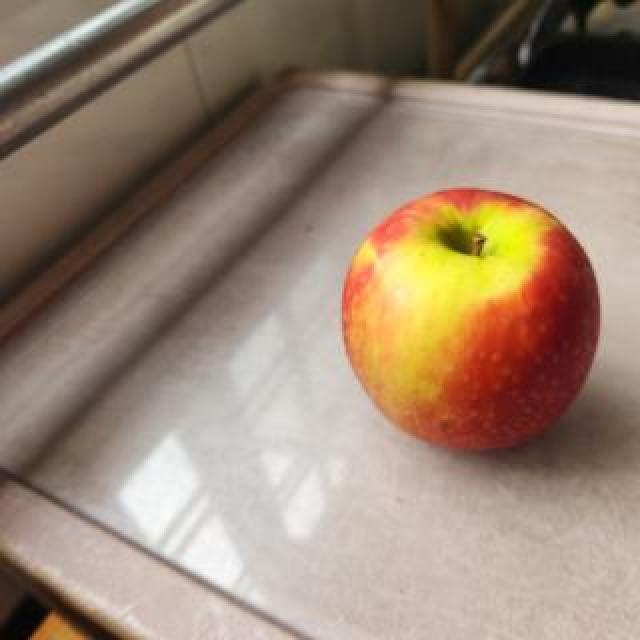Fresh Apple: (337, 170, 605, 458)
